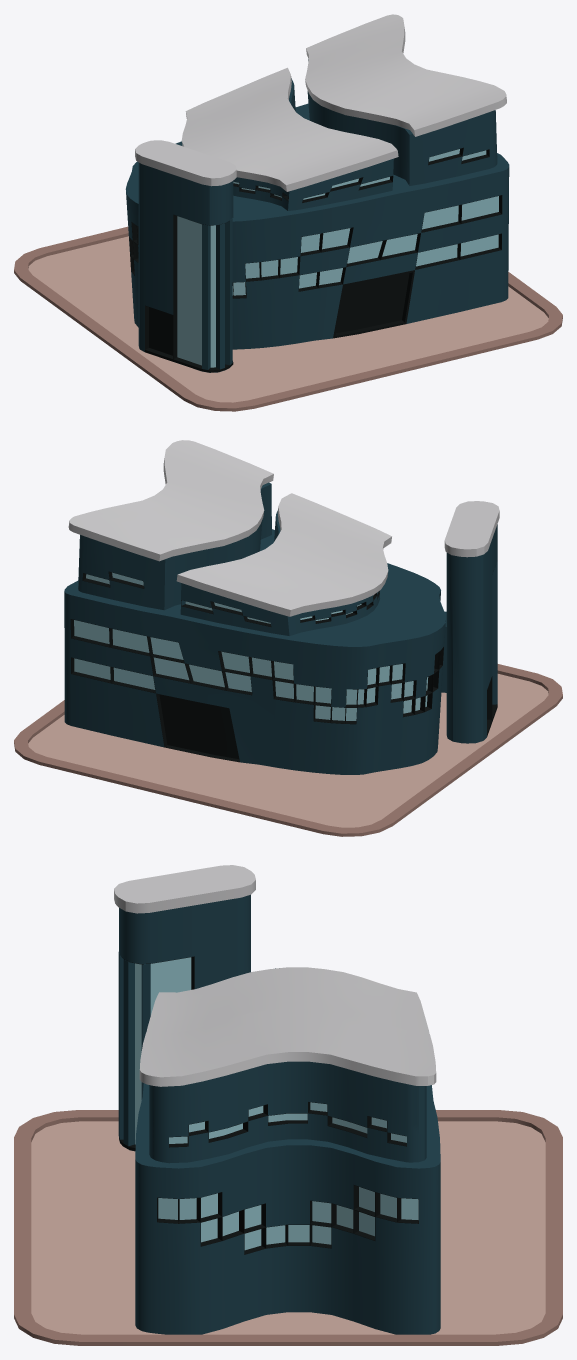
The model's file is Humanas_Level_03.fbx.
3 renders of one model, top to bottom at view 1: azimuth 30°, elevation 25°; view 2: azimuth 150°, elevation 25°; view 3: azimuth 270°, elevation 25°, orthographic. The views are drawn at different scales.
Visible parts, largest first — view 1: Humanas_Level_03; view 2: Humanas_Level_03; view 3: Humanas_Level_03.
Part boxes in pixels (box(x1,y1,x2,y2)): Humanas_Level_03: box(14, 14, 562, 411); Humanas_Level_03: box(14, 440, 562, 836); Humanas_Level_03: box(14, 865, 562, 1345).
Bounding box in the file's own units: 2000 × 1031 × 2000.
